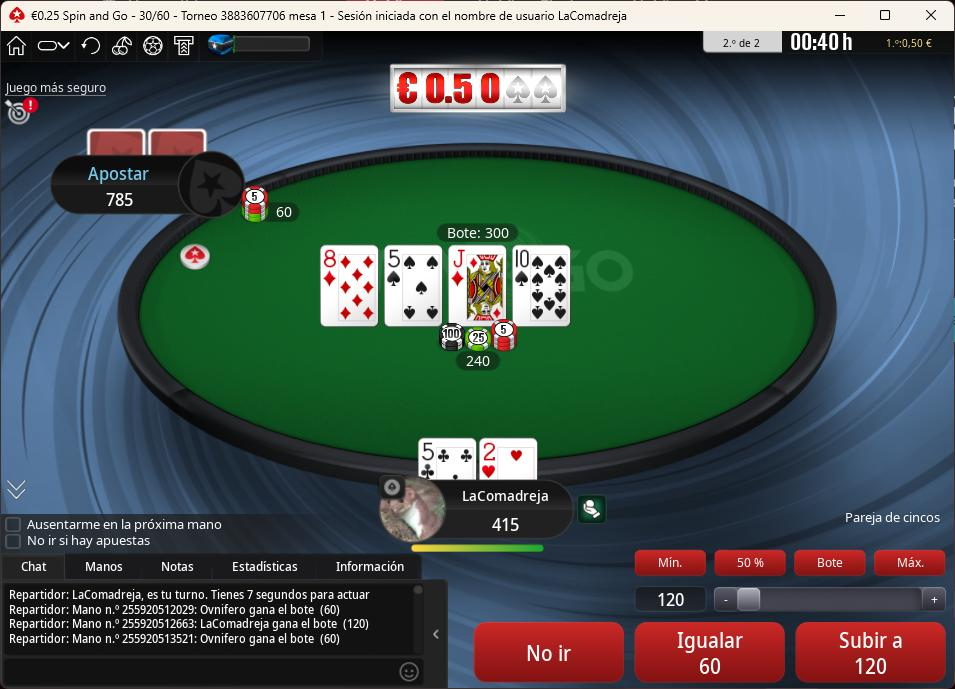ButtonBet: (320, 243, 573, 331)
ButtonCall: (627, 616, 784, 687)
ButtonCheck: (633, 620, 788, 686)
ButtonFold: (472, 617, 630, 685)
ButtonMaxRaise: (875, 547, 947, 579)
ButtonMinRaise: (634, 550, 709, 578)
ButtonPotRaise: (792, 547, 866, 580)
ButtonRaise: (792, 619, 949, 686)
Dealer: (180, 242, 214, 273)
HiddenCards: (84, 129, 212, 158)
Player: (50, 151, 244, 214)
PlayerBet: (241, 177, 309, 232)
PlayerChips: (97, 189, 140, 212)
Pot: (435, 223, 517, 241)
PrincipalCards: (415, 435, 543, 486)
PrincipalCards1: (415, 436, 477, 482)
PrincipalCards2: (480, 436, 542, 482)
PrincipalPlayer: (372, 471, 570, 541)
ShowedCards: (318, 244, 574, 332)
ShowedCards1: (319, 246, 384, 331)
ShowedCards2: (384, 246, 446, 329)
ShowedCards3: (445, 244, 511, 329)
ShowedCards4: (513, 243, 570, 329)
SmallBigBlind: (130, 5, 180, 26)
TablePot: (435, 318, 528, 377)
